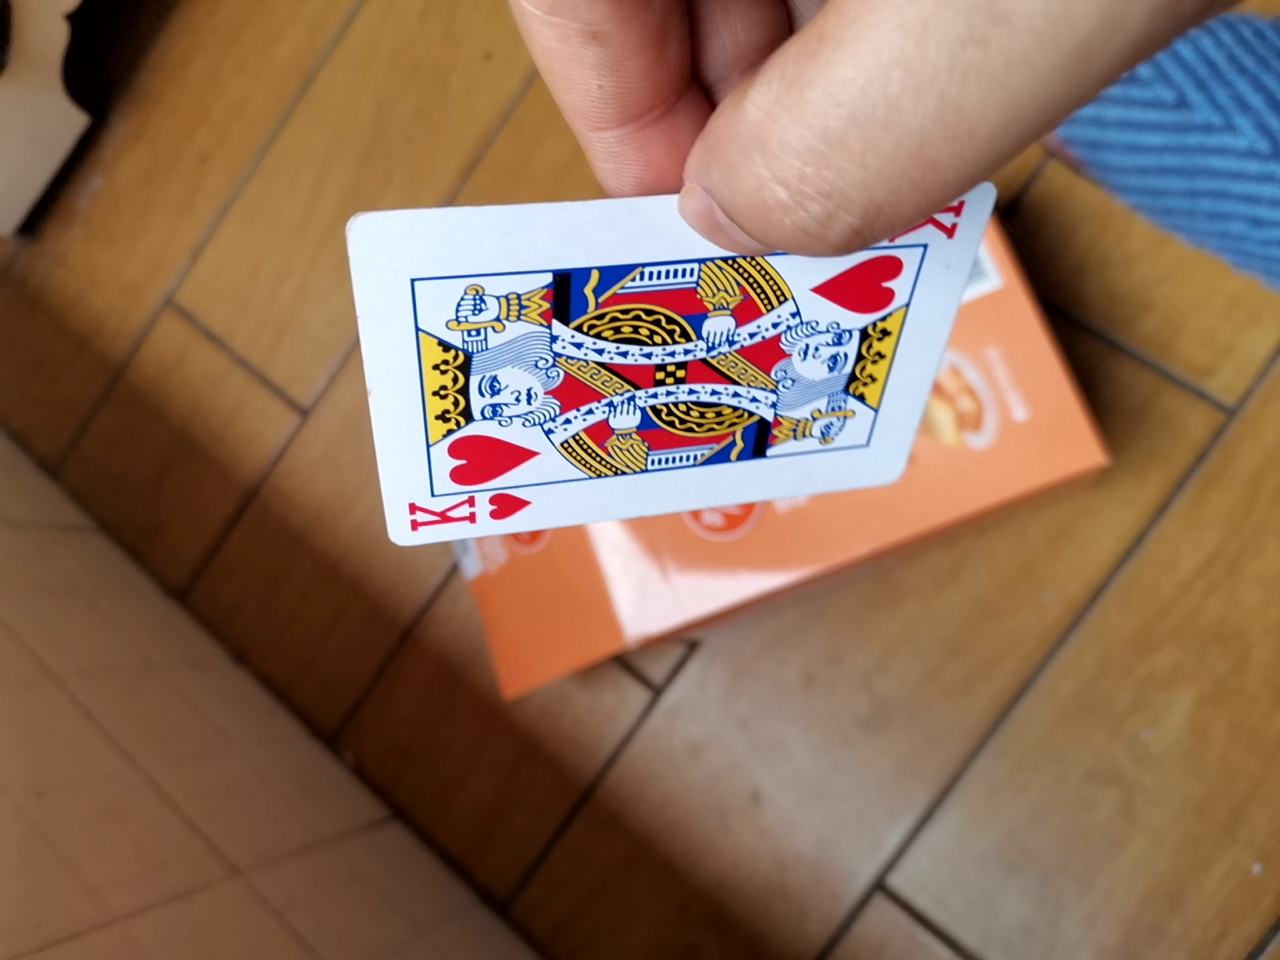hx k: (321, 188, 995, 565)
